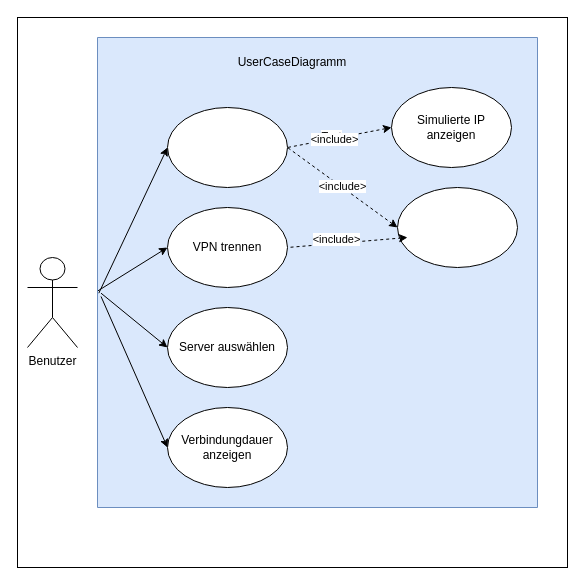
Image size: 585x585. Some labels were removed from this diagram. The box of each missing label's shape, as (x1, y1, x2, y2) in pixels:
Status anzeigen: (396, 186, 518, 268)
VPN verbinden: (166, 106, 288, 188)
